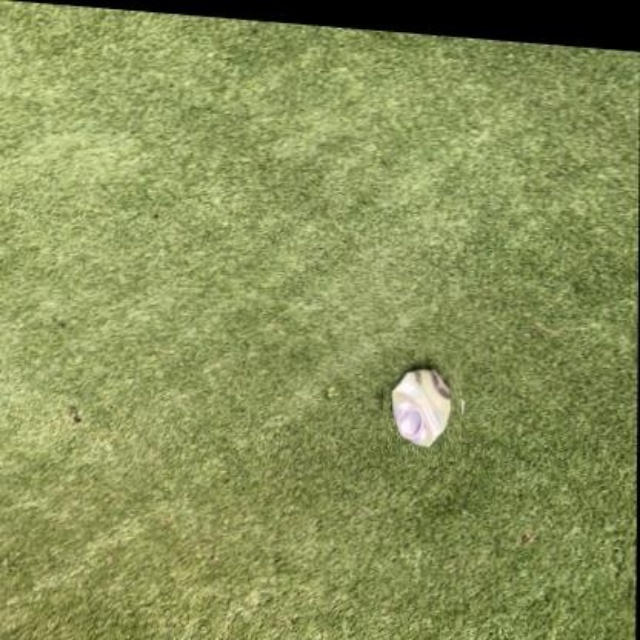trash: (392, 369, 449, 445)
